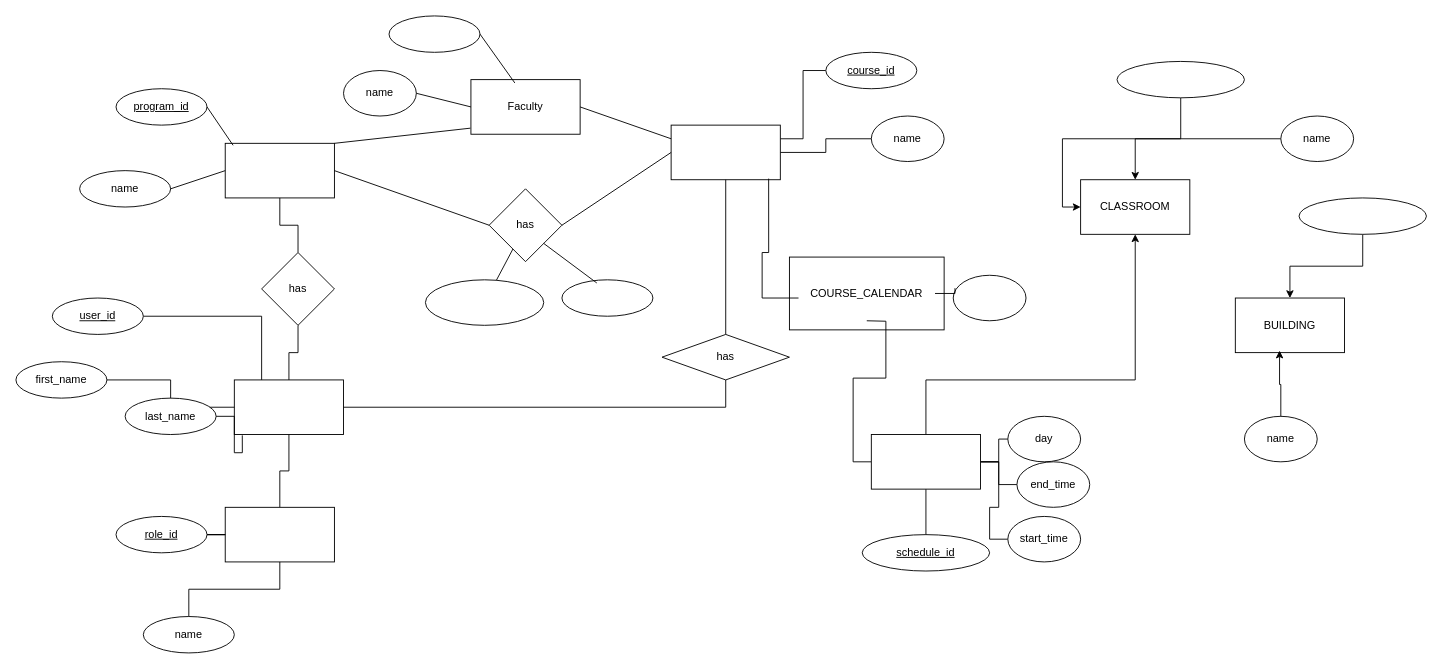
Some shapes in this 1442 by 669 pixel diagram are drawn without their labels. Here are the shapes that lost their labels. From the top down, the centre of each, then its label:
At [434,33]: "faculty_id".
At [1180,79]: "classroom_id".
At [279,170]: "PROGRAM".
At [725,152]: "COURSE".
At [1362,215]: "building_id".
At [484,302]: "semester_curriculum".
At [607,297]: "pcprogram_id".
At [989,297]: "capacity".
At [288,407]: "USER".
At [925,461]: "SCHEDULE".
At [279,534]: "ROLE".
